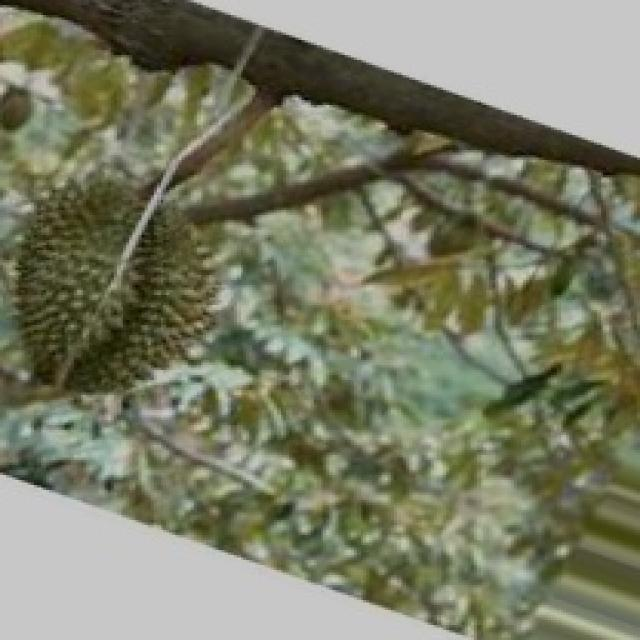fruit: (0, 180, 252, 430), (40, 0, 271, 102)
